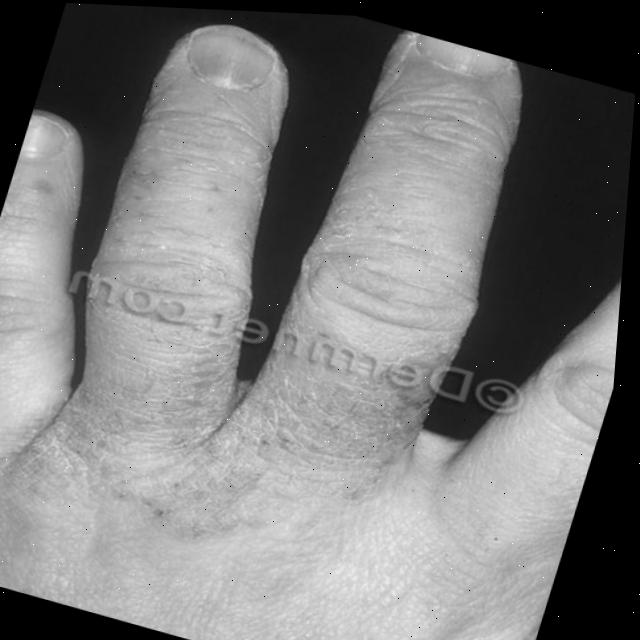Eczema: (32, 274, 416, 577)
